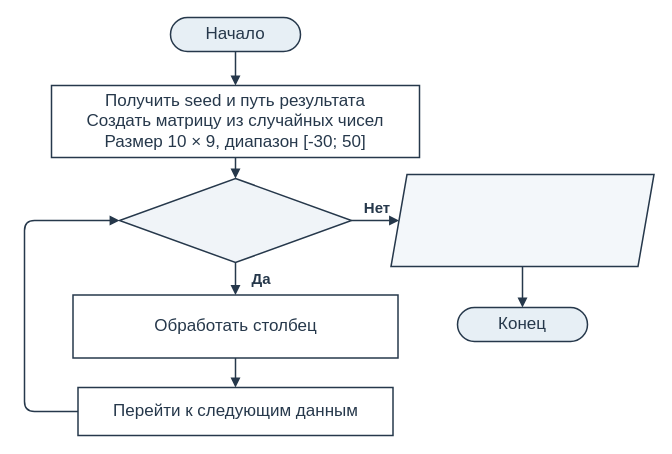
Some shapes in this 672 by 454 pixel diagram are drawn without their labels. The shapes that lost their labels are listed below. From the top down, each one's centre as x and y in pixels, then its label:
(x=235, y=220): Остались данные для обработки?
(x=522, y=220): Вывести исходную и преобразованную матрицы и итог задачи Записать вывод в файл
